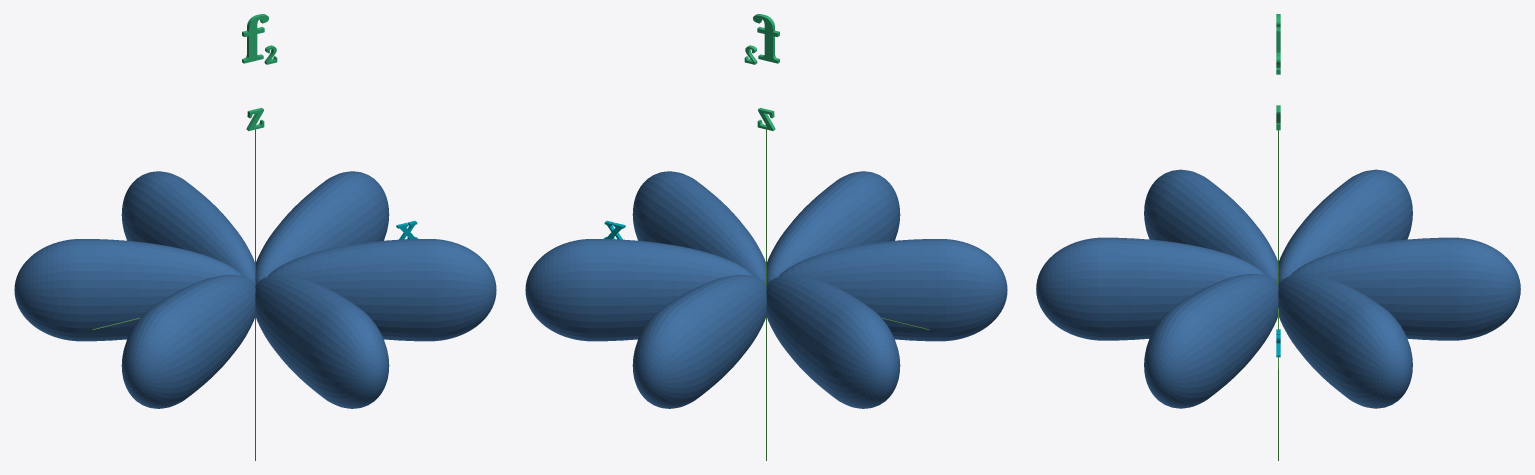
The picture shows the model from 3 angles, left to right: view 1: azimuth 30°, elevation 25°; view 2: azimuth 150°, elevation 25°; view 3: azimuth 270°, elevation 25°; orthographic projection.
Visible parts, largest first — view 1: Mesh_Mesh_head_geo001_lambert2SG001; view 2: Mesh_Mesh_head_geo001_lambert2SG001; view 3: Mesh_Mesh_head_geo001_lambert2SG001.
Boxes of the visible parts, left/top/right/bottom form: Mesh_Mesh_head_geo001_lambert2SG001: left=14, top=14, right=496, bottom=460; Mesh_Mesh_head_geo001_lambert2SG001: left=525, top=14, right=1007, bottom=460; Mesh_Mesh_head_geo001_lambert2SG001: left=1036, top=14, right=1520, bottom=460.
Size of the model in its own units: 94.4 by 109 by 108.
